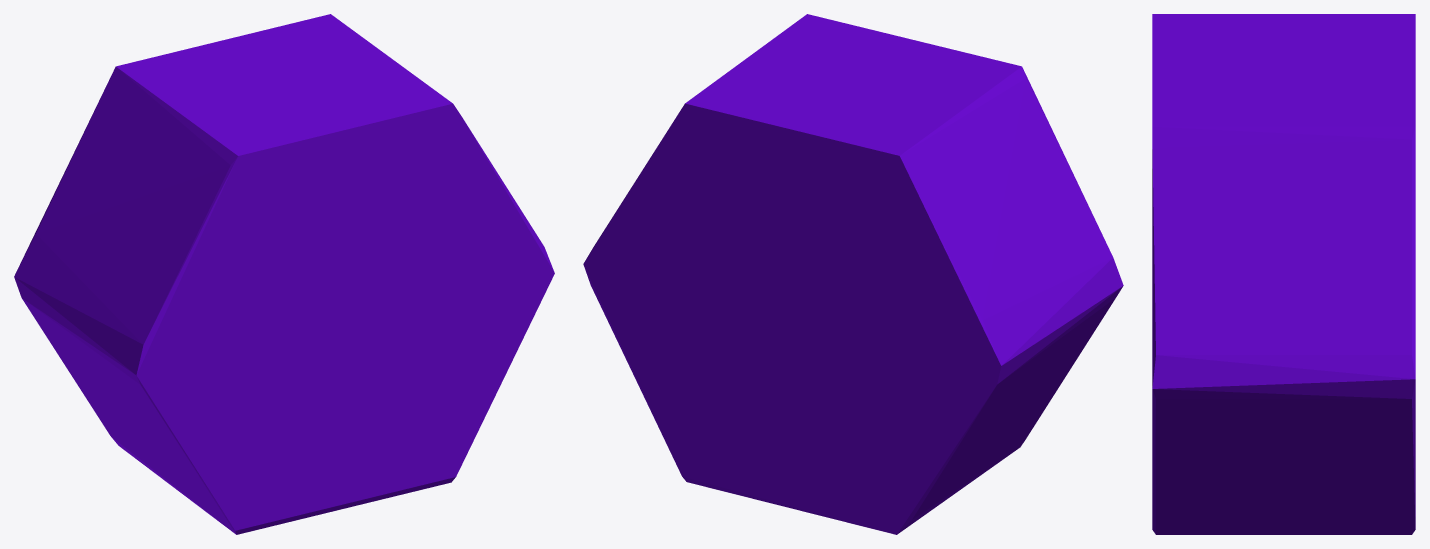
File: hex_convex_piece_000.obj
The picture shows the model from 3 angles, left to right: view 1: azimuth 30°, elevation 25°; view 2: azimuth 150°, elevation 25°; view 3: azimuth 270°, elevation 25°; orthographic projection. The views are drawn at different scales.
Bounding box in the file's own units: 0.1015 × 0.0881 × 0.0514.
